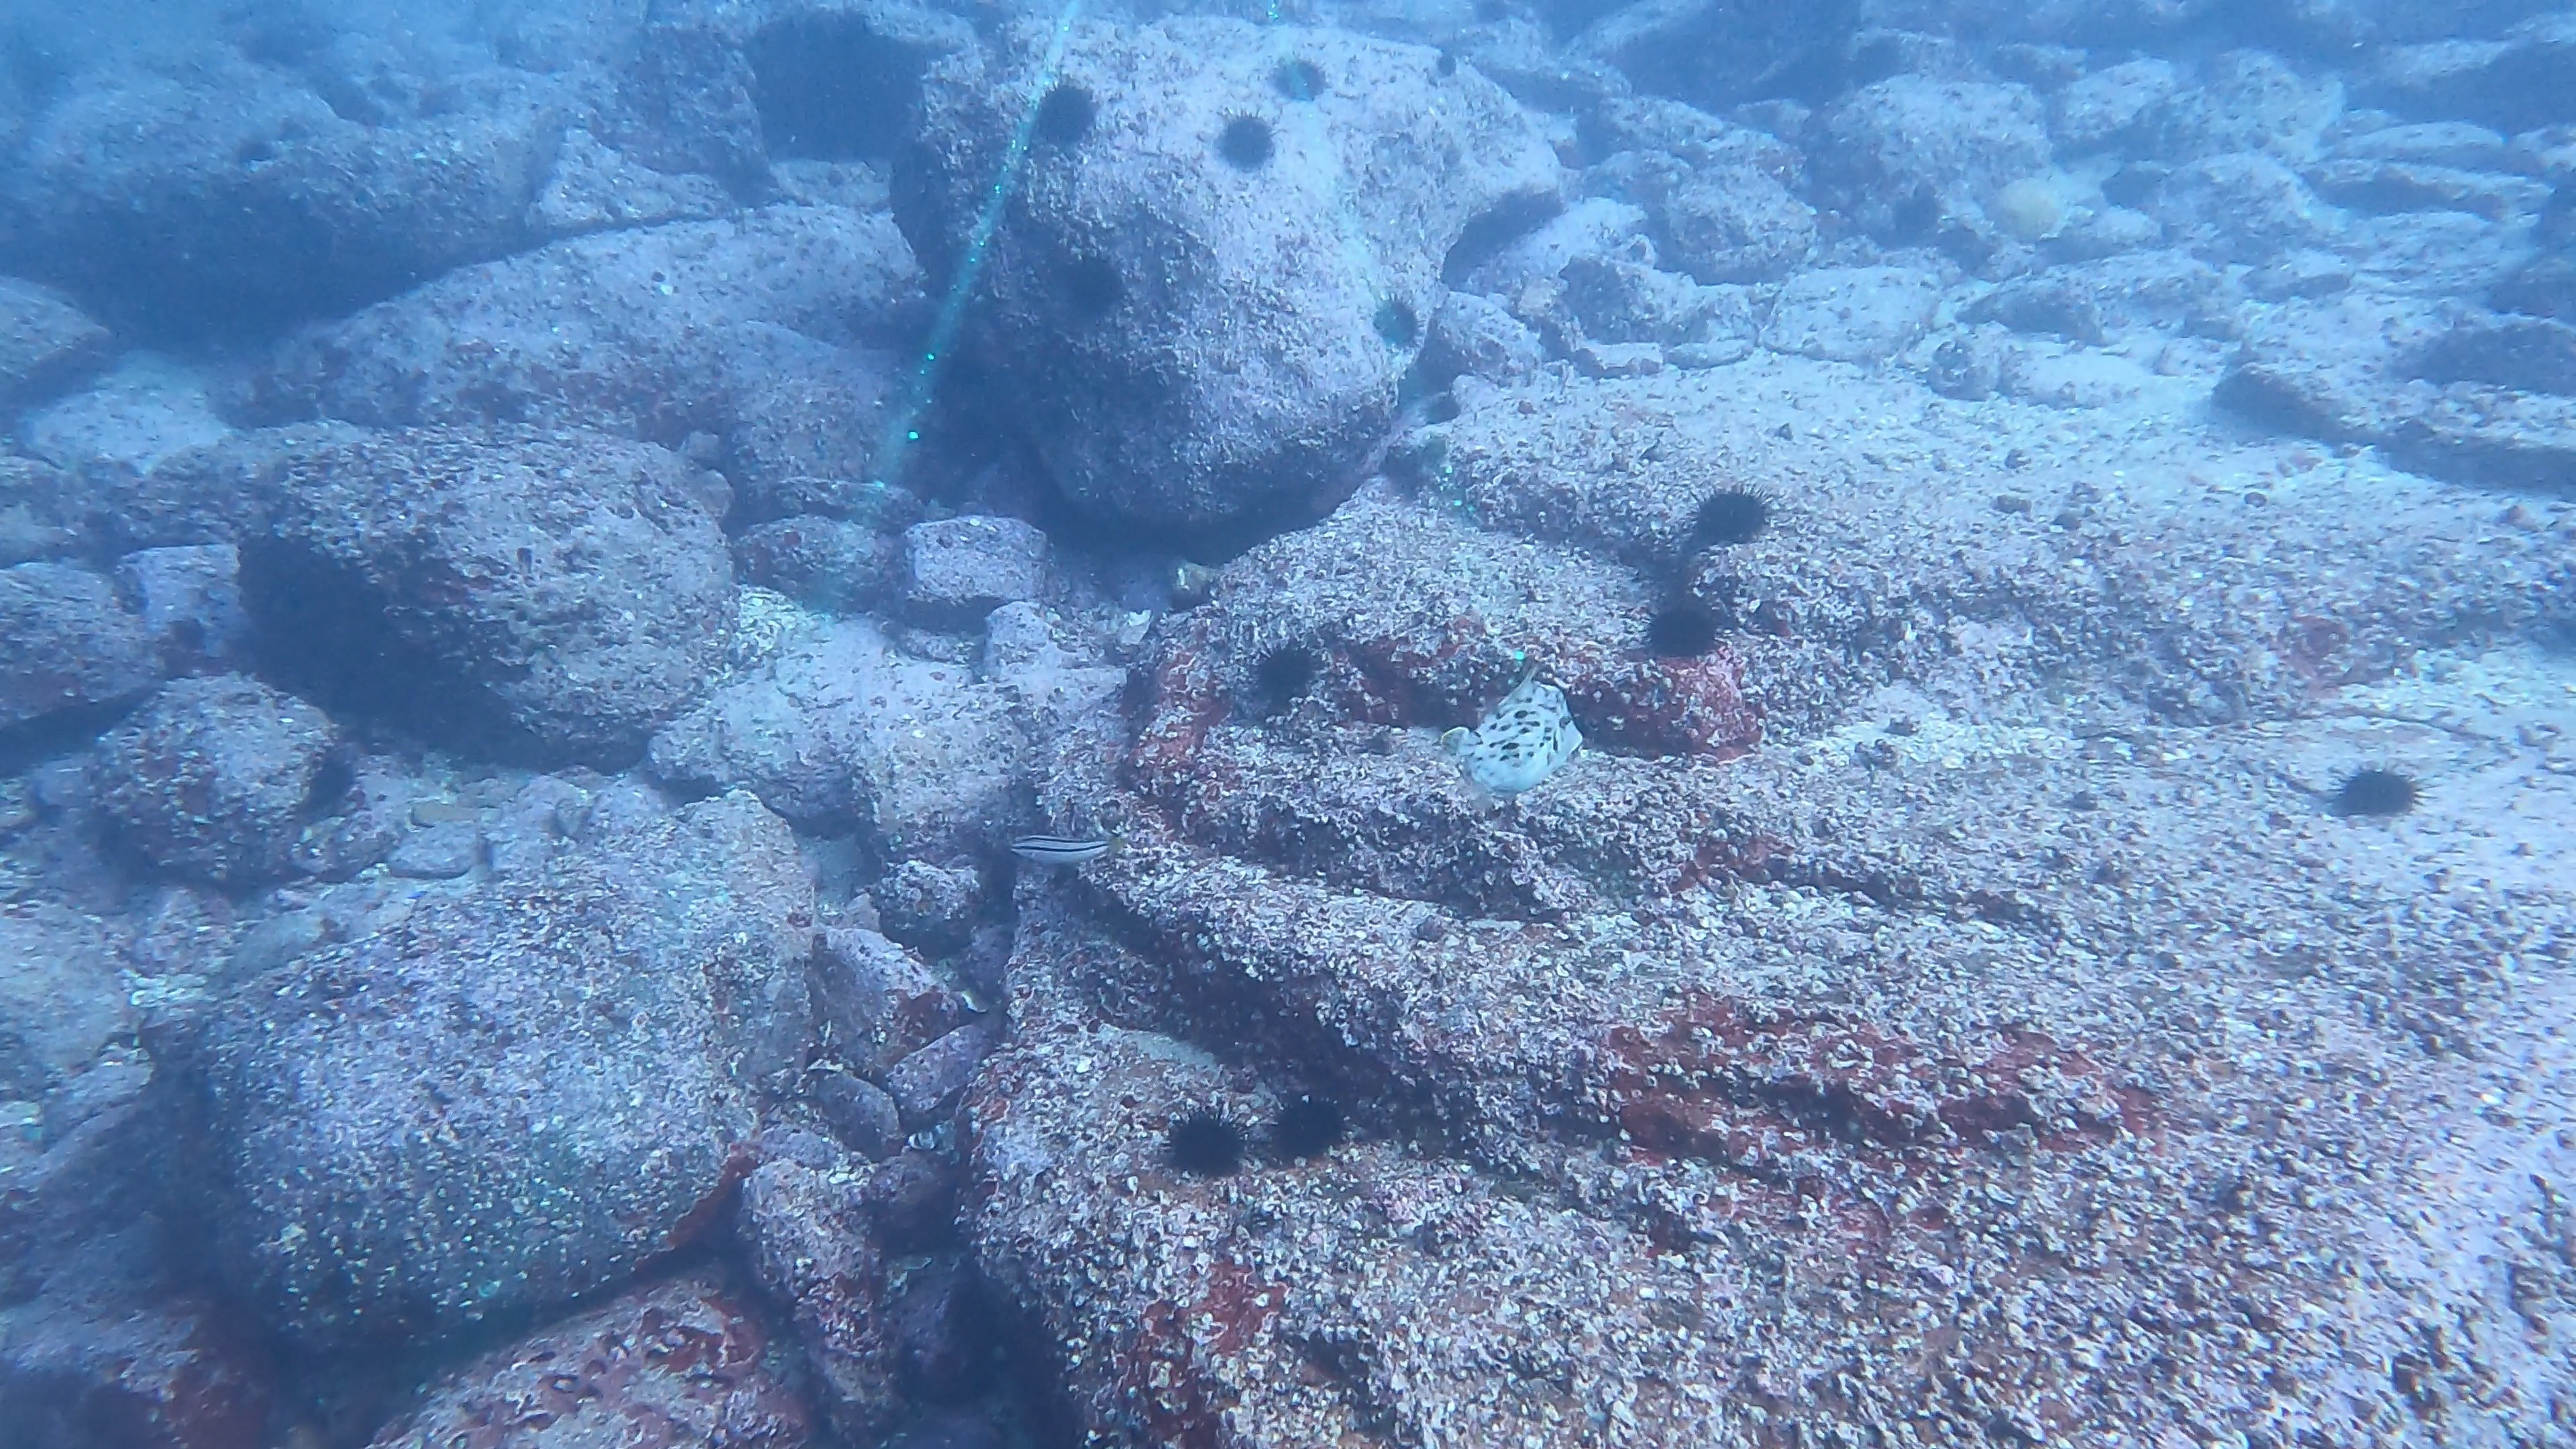Fish: (1437, 660, 1585, 819), (1007, 832, 1129, 867)
